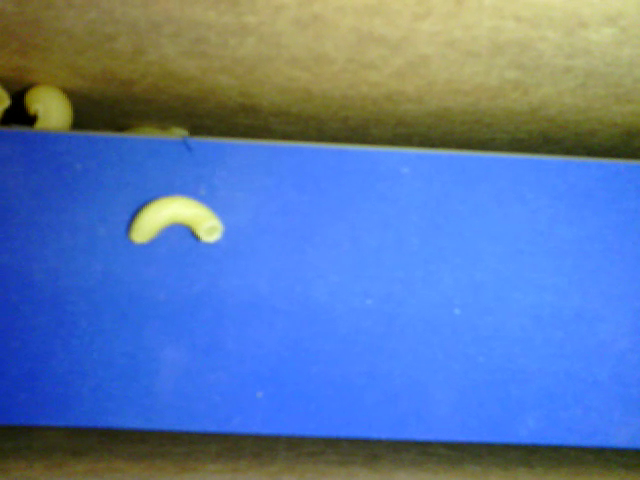elbow: (128, 196, 223, 248)
shell: (20, 84, 78, 138)
